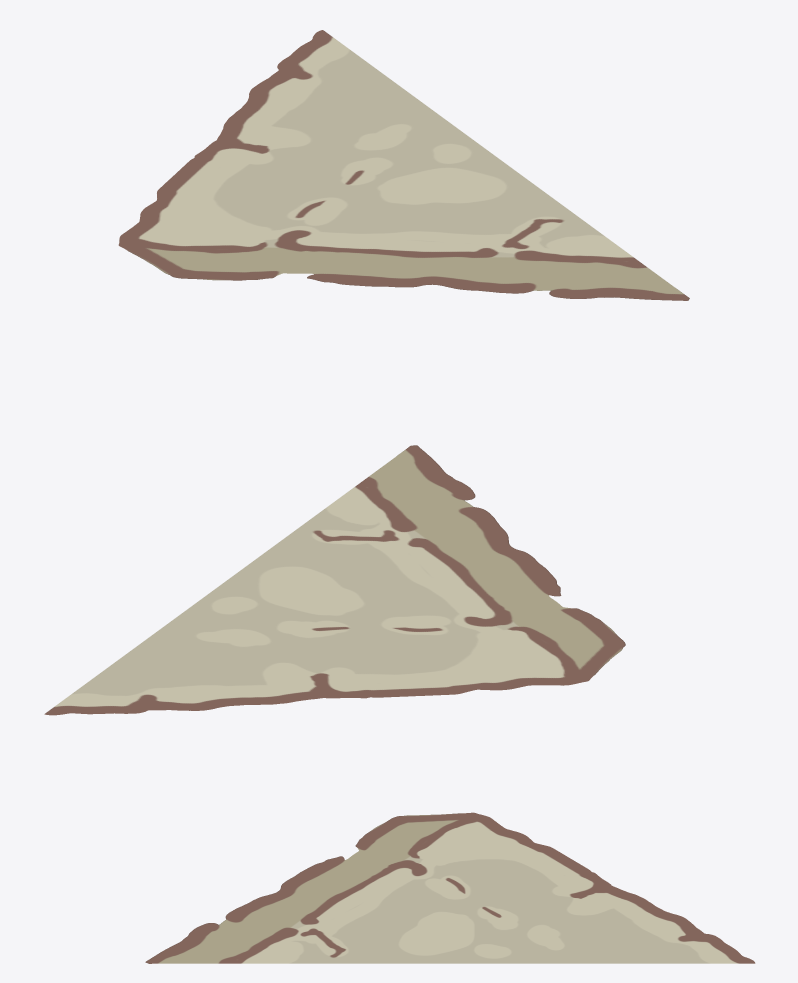
The model's file is Mesh_Tex_Activity_Pachinko_Stone_04.fbx.
3 views of the same model, one above another, from view 1: azimuth 30°, elevation 25°; view 2: azimuth 150°, elevation 25°; view 3: azimuth 270°, elevation 25° (orthographic). The views are drawn at different scales.
Visible parts, largest first — view 1: Mesh_Tex_Activity_Pachinko_Stone_04; view 2: Mesh_Tex_Activity_Pachinko_Stone_04; view 3: Mesh_Tex_Activity_Pachinko_Stone_04.
Boxes of the visible parts, x1,y1,x2,y2 form: Mesh_Tex_Activity_Pachinko_Stone_04: (118,30,689,300); Mesh_Tex_Activity_Pachinko_Stone_04: (44,445,625,715); Mesh_Tex_Activity_Pachinko_Stone_04: (145,812,755,963).
Size of the model in its own units: 215 by 0 by 322.
1 material, 1 textured.
